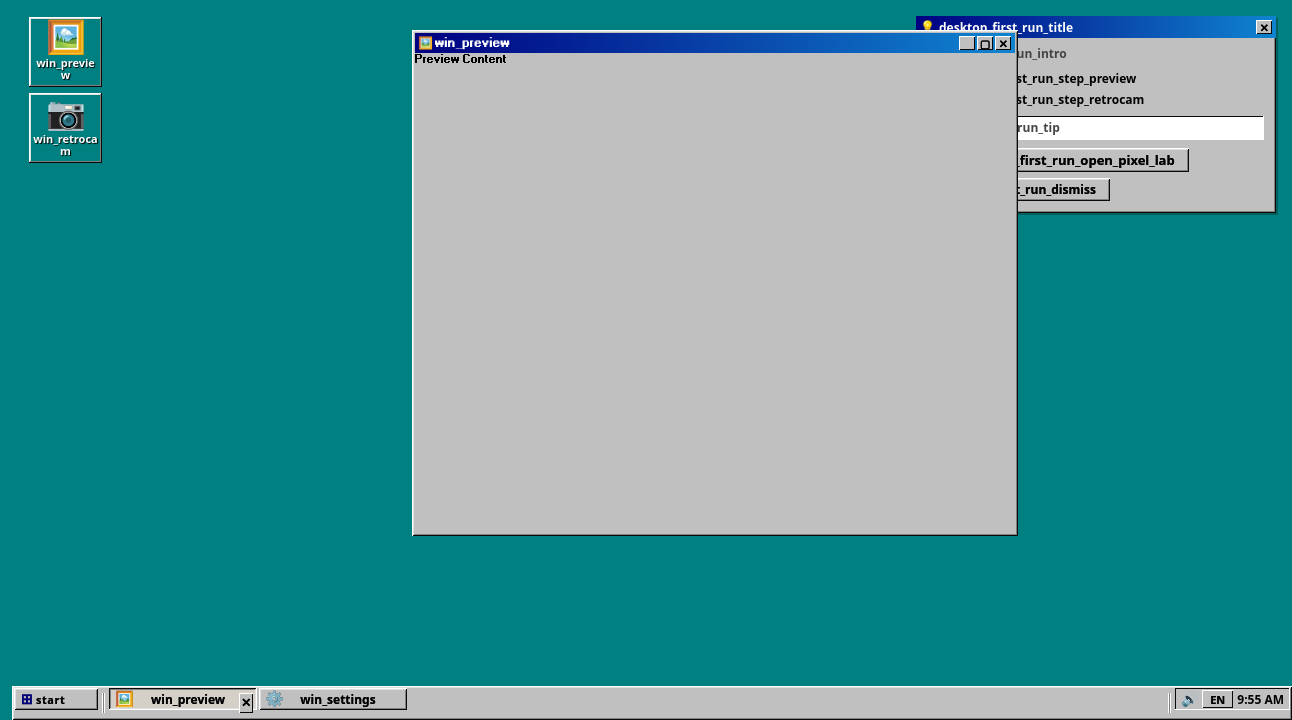
Test case: Desktop shell flow › hides the first-run guide after launching a desktop program from an icon
This screenshot has width=1292, height=720.
Double-click the button with aria-label "open win_retrocam": [66, 128] box top-left (28, 92), bottom-right (103, 164)
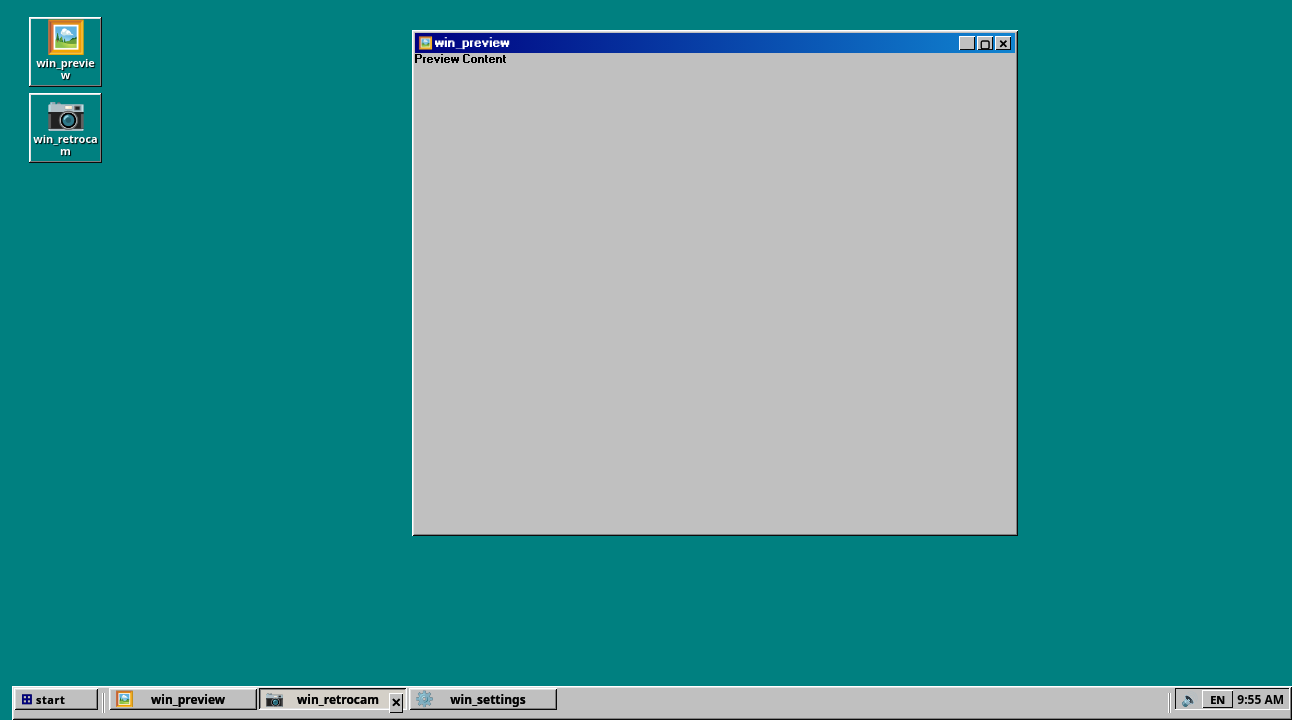
Result: the element with test id "desktop-first-run-guide" is gone
